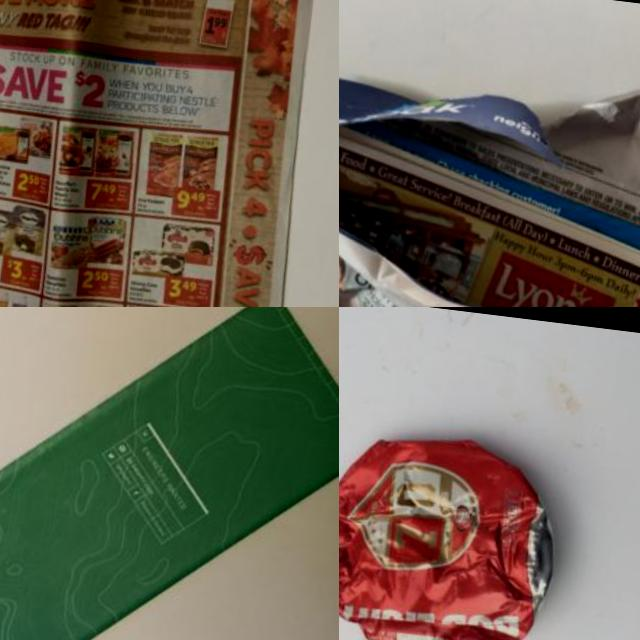lata: (339, 422, 570, 640)
papel: (0, 307, 339, 640), (0, 0, 331, 307), (339, 30, 640, 307)
